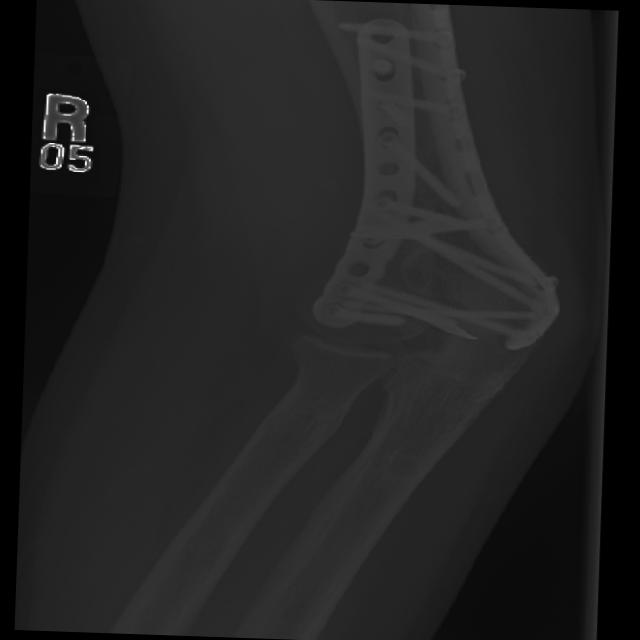elbow positive: (372, 230, 511, 317)
